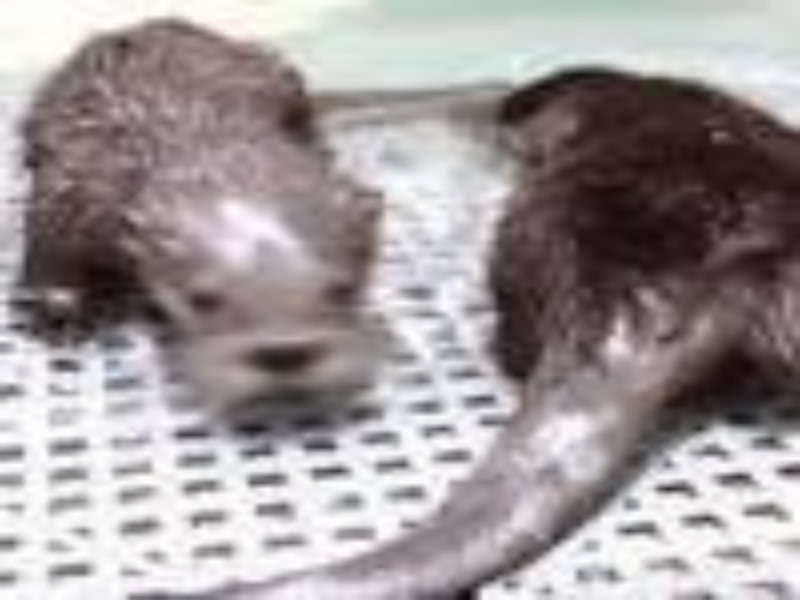minkish: (141, 58, 796, 600), (21, 14, 393, 415)
